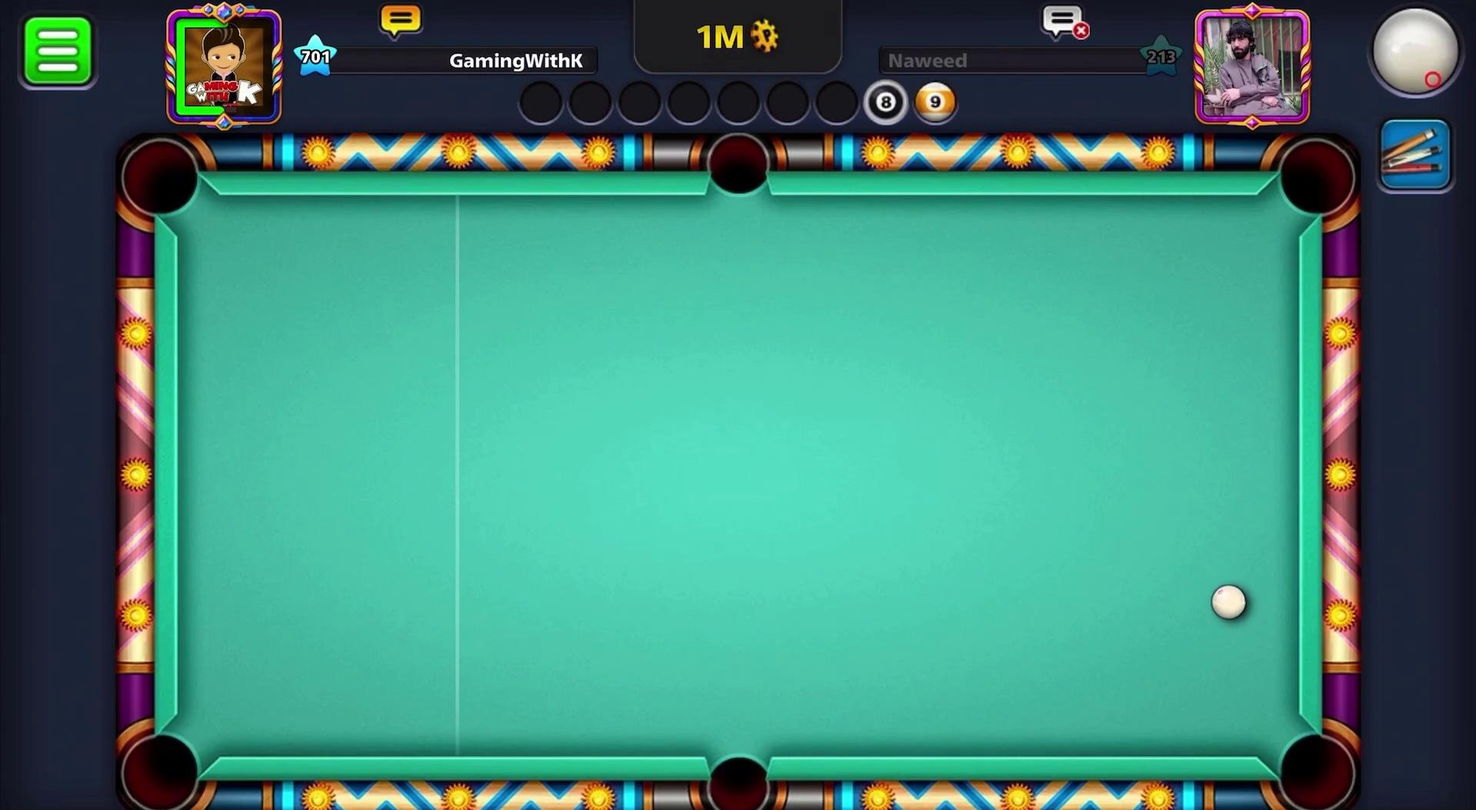Hole: (108, 129, 213, 230), (1264, 710, 1364, 809), (1268, 132, 1364, 231), (111, 719, 212, 809), (685, 734, 785, 809), (699, 129, 778, 207)
Play_Area: (176, 196, 1297, 761)
Spin: (1347, 0, 1475, 115)
White: (1208, 579, 1252, 625)
